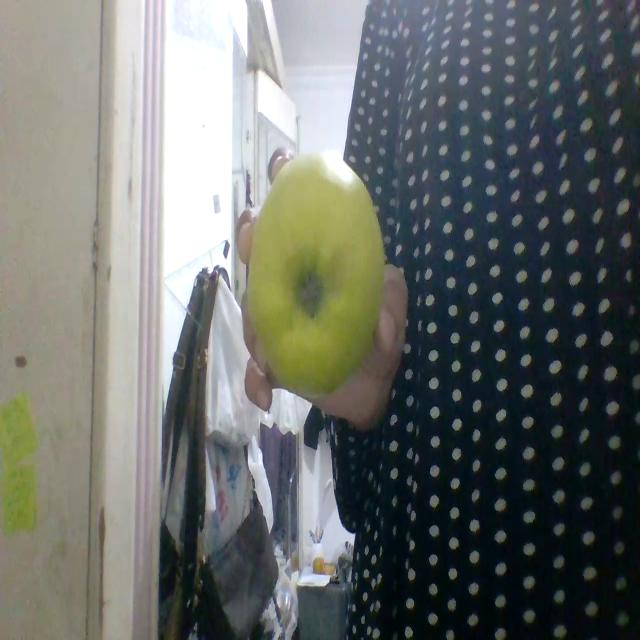50-_ripeness: (248, 153, 384, 396)
